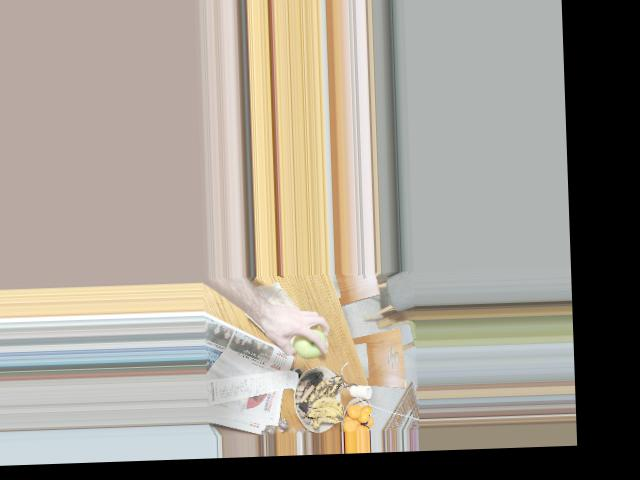apple: (291, 327, 324, 357)
